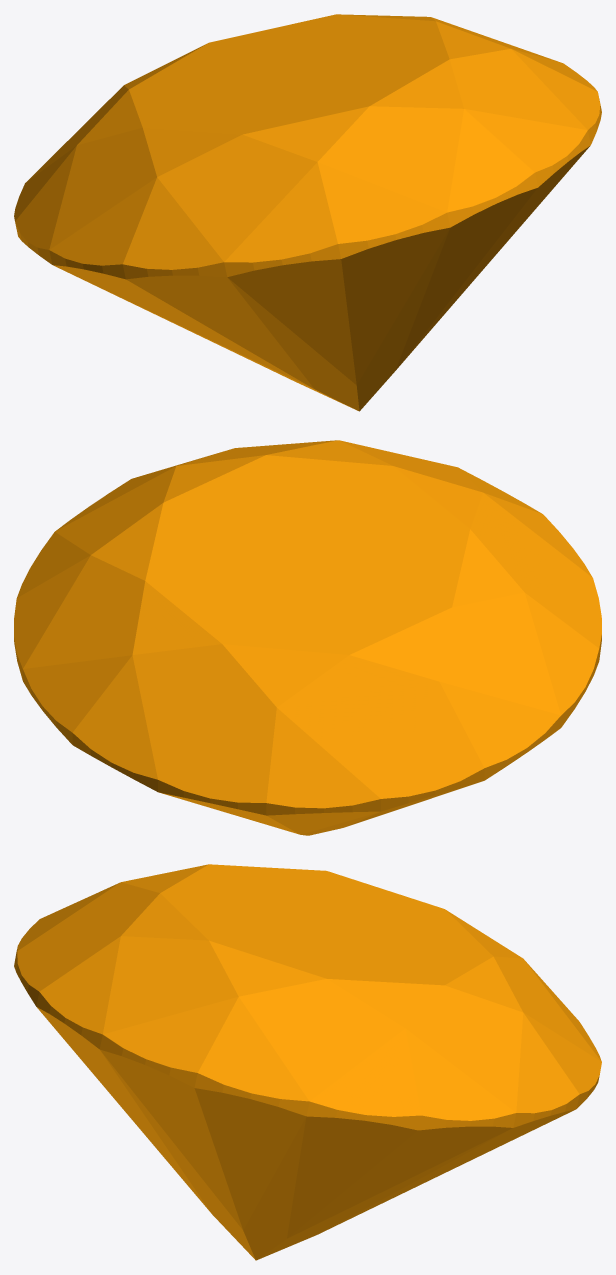
3 renders of one model, top to bottom at view 1: azimuth 30°, elevation 25°; view 2: azimuth 150°, elevation 25°; view 3: azimuth 270°, elevation 25°, orthographic.
Parts seen in each view (by area): view 1: Round; view 2: Round; view 3: Round.
Part boxes in pixels (bbox=[...]): Round: bbox=[14, 14, 601, 411]; Round: bbox=[14, 440, 601, 835]; Round: bbox=[14, 864, 601, 1260].
Bounding box in the file's own units: 0.9966 × 0.6521 × 0.9858.
